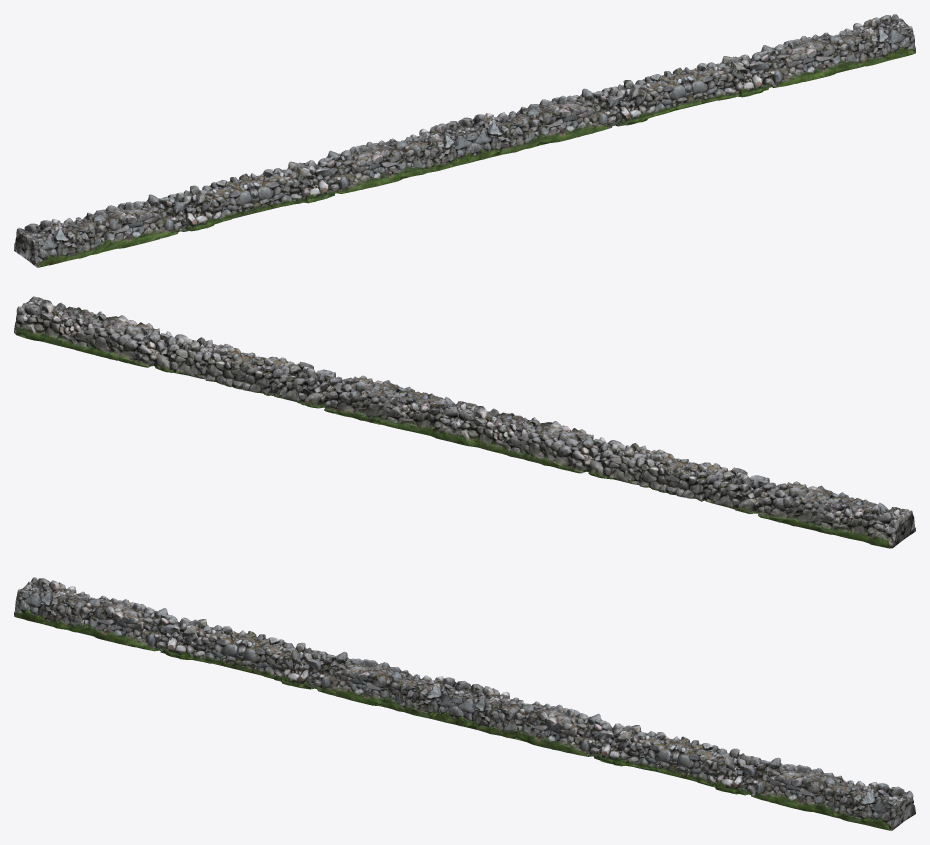
Rendered from Jotunheim_Dunga_Stone.glb.
3 renders of one model, top to bottom at view 1: azimuth 30°, elevation 25°; view 2: azimuth 150°, elevation 25°; view 3: azimuth 330°, elevation 25°, orthographic.
Parts seen in each view (by area): view 1: Object_3; view 2: Object_3; view 3: Object_3.
Part boxes in pixels (box(x1,y1,x2,y2)): Object_3: box(14, 14, 915, 267); Object_3: box(14, 296, 915, 548); Object_3: box(14, 577, 915, 830).
Size of the model in its own units: 87.24 by 2.95 by 4.58.
Materials: 1 (1 with a texture image).
